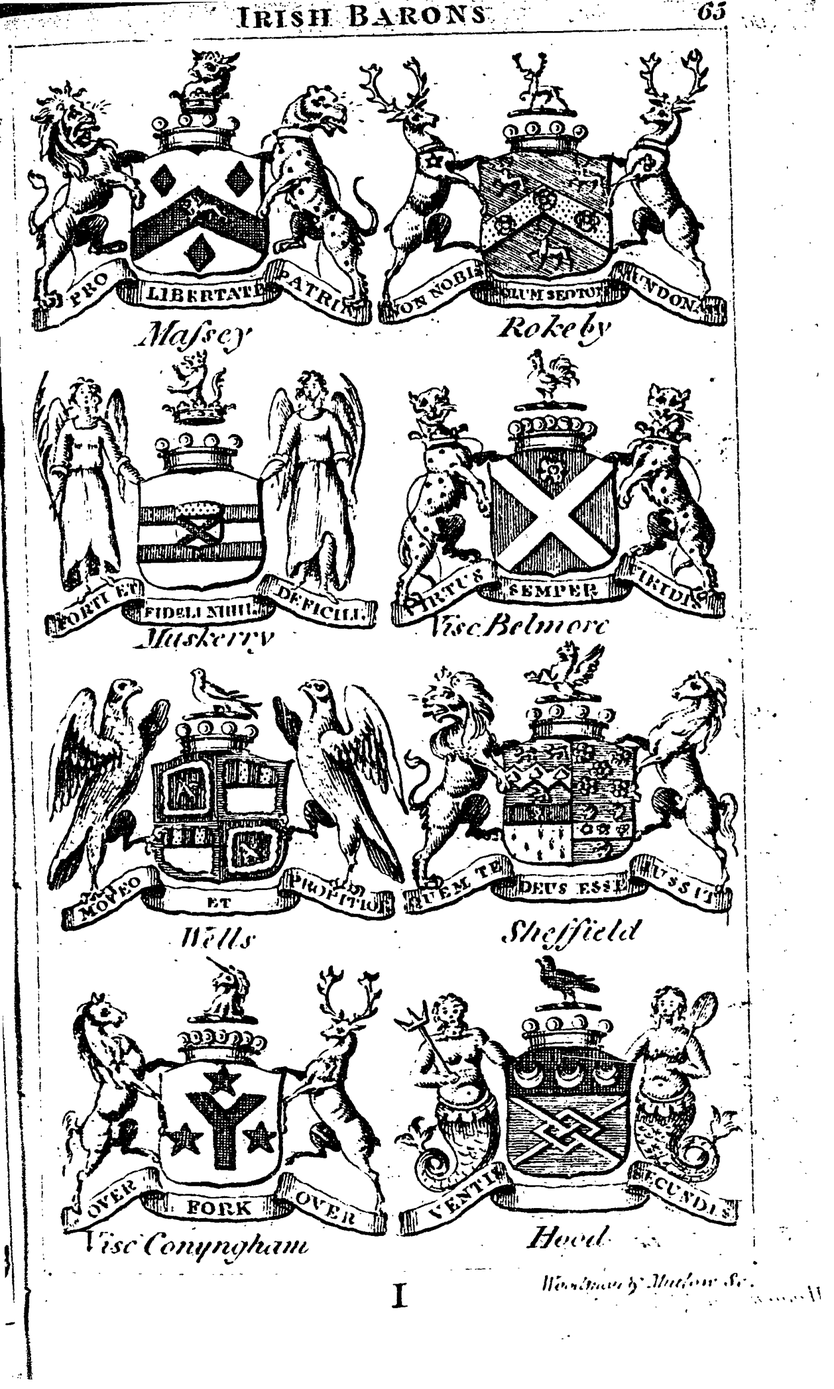coat_of_arms: (41, 951, 394, 1265), (32, 657, 400, 951), (26, 350, 376, 657), (394, 650, 747, 951), (387, 344, 737, 646), (368, 48, 722, 342), (24, 51, 373, 345), (402, 958, 742, 1253)
